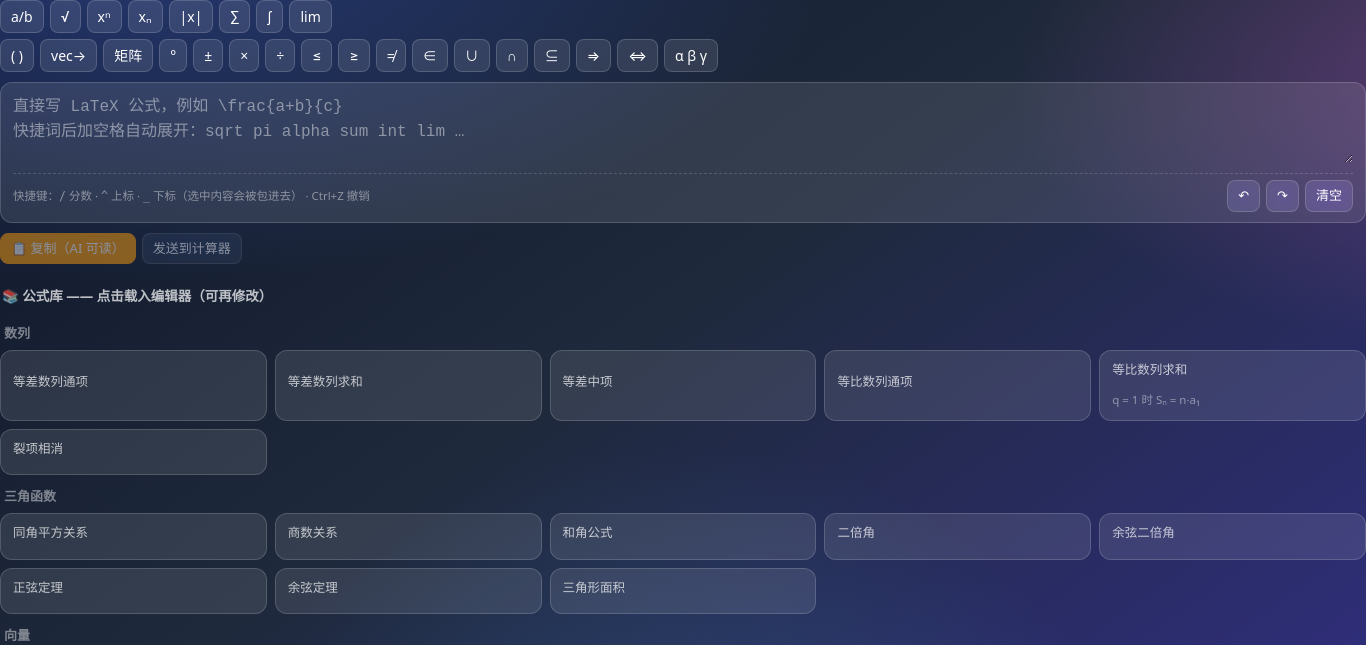
Scenario: 公式编辑器 › 快捷词 sqrt+空格 自动展开（可预测）
Replace the text in the text box named "公式源码输入" with "sqrt " at (683, 127), box [13,91,1353,163]
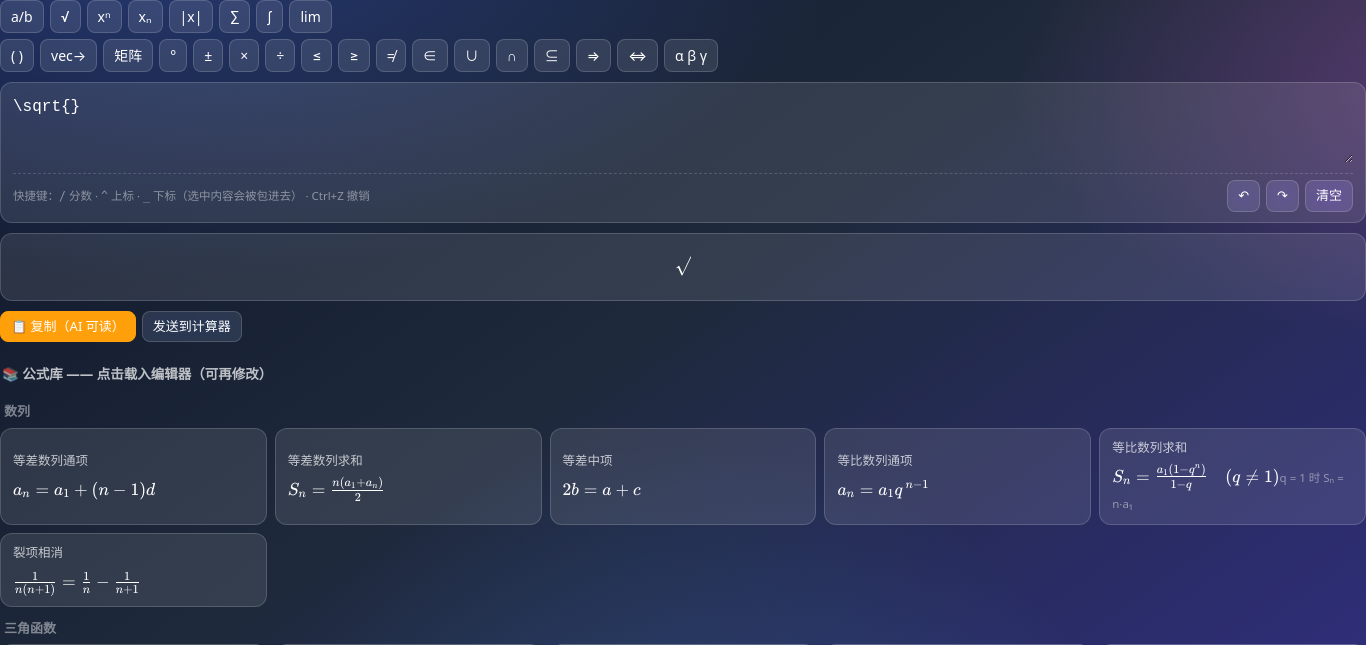
Result: the text box named "公式源码输入" holds "\\sqrt{}" at [13,91,1353,163]
